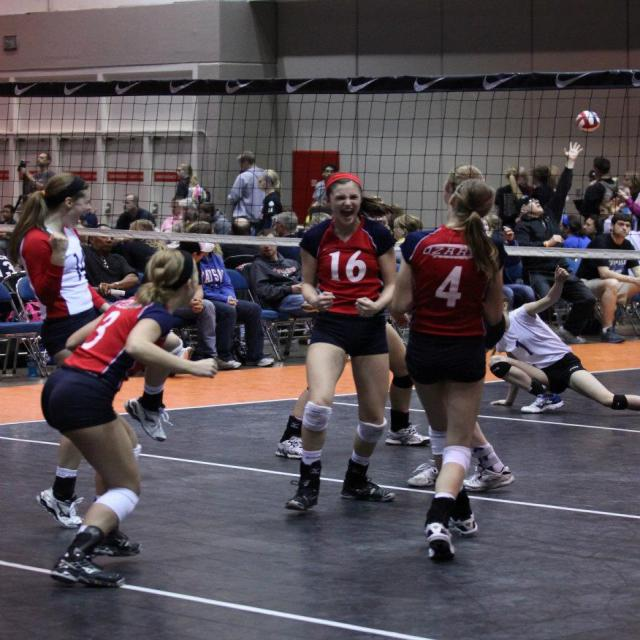body: (36, 240, 222, 591), (5, 171, 186, 530), (386, 173, 514, 563), (284, 173, 398, 512), (405, 164, 517, 493), (485, 263, 640, 415), (276, 320, 436, 457), (511, 136, 600, 346), (184, 219, 277, 371), (71, 199, 333, 250), (574, 211, 640, 344), (173, 239, 237, 372), (249, 228, 322, 315), (360, 195, 505, 238), (572, 170, 640, 260), (81, 223, 145, 305), (108, 218, 170, 274), (226, 150, 266, 229), (581, 155, 622, 225), (492, 166, 532, 233), (253, 168, 285, 237), (557, 213, 592, 275), (516, 163, 558, 211), (0, 237, 22, 318), (114, 192, 158, 231), (18, 152, 57, 194), (171, 162, 210, 202), (310, 163, 339, 206), (28, 341, 57, 379), (0, 204, 19, 255), (389, 238, 407, 274)
